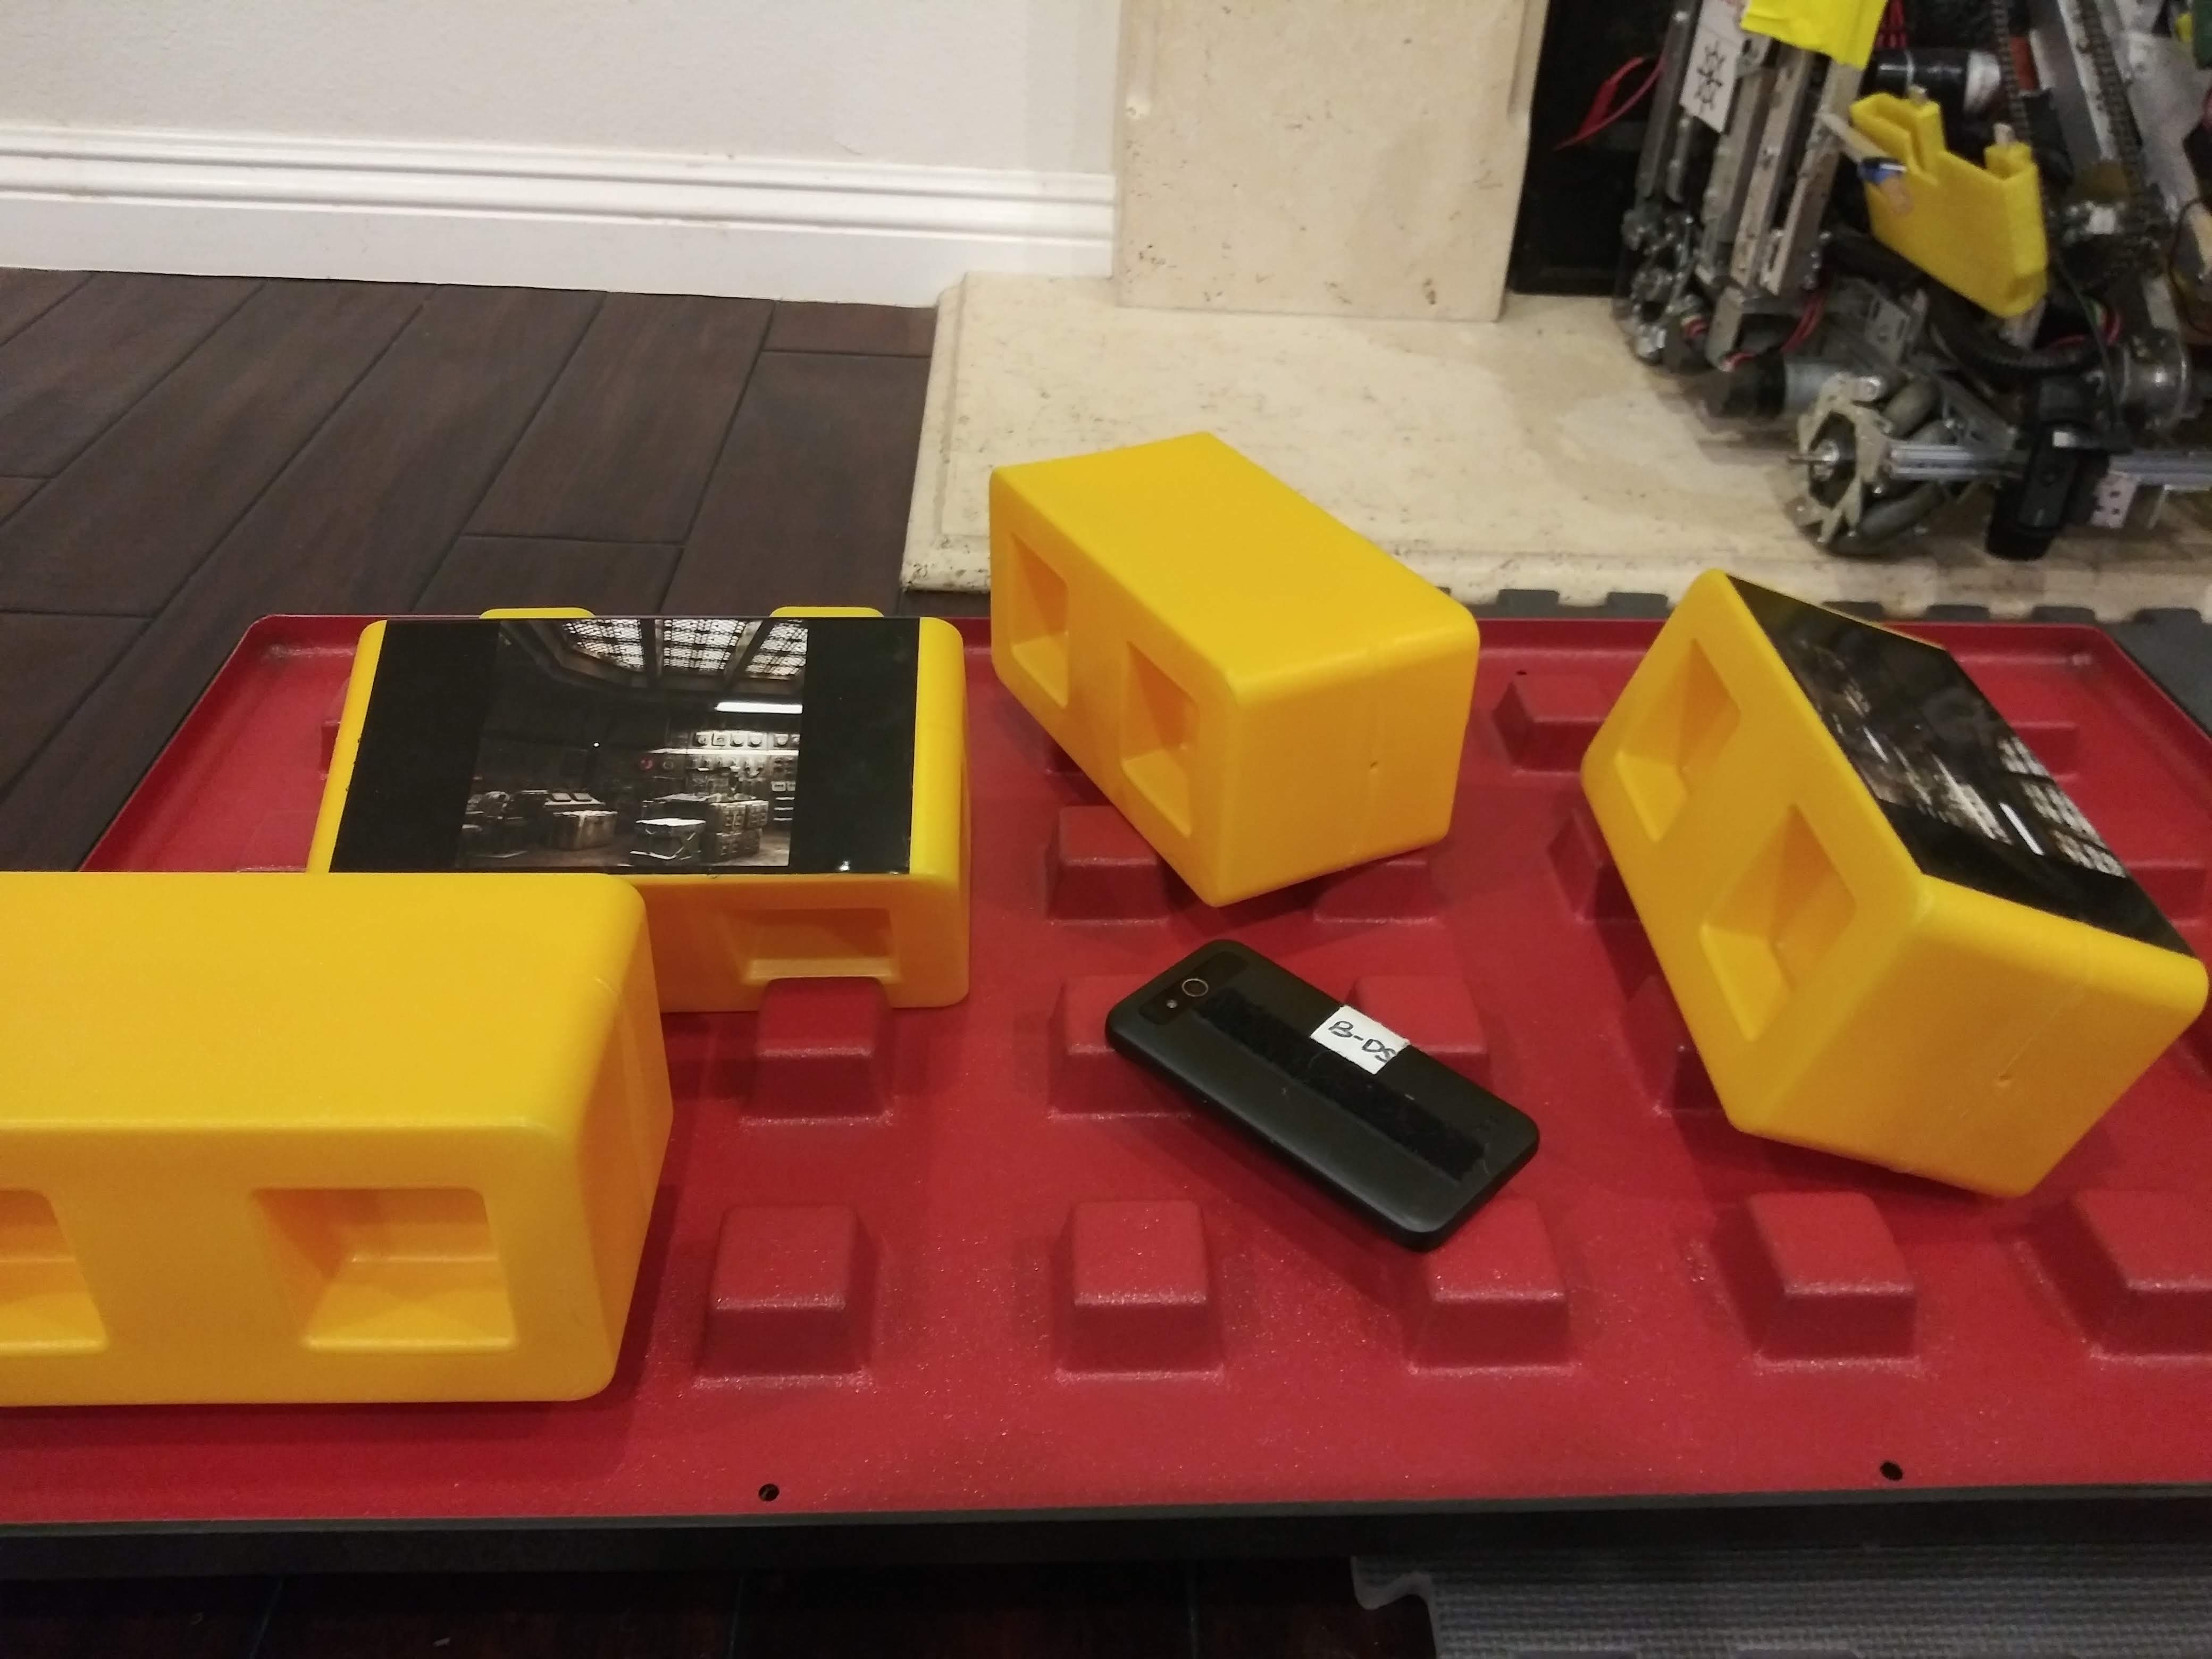skystone: (1595, 575, 2167, 1129), (324, 598, 949, 889)
stone: (12, 868, 641, 1405), (975, 448, 1474, 863)
